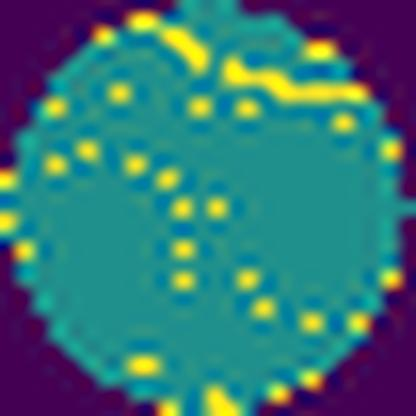Scratch: (218, 54, 373, 110), (129, 14, 213, 77)
